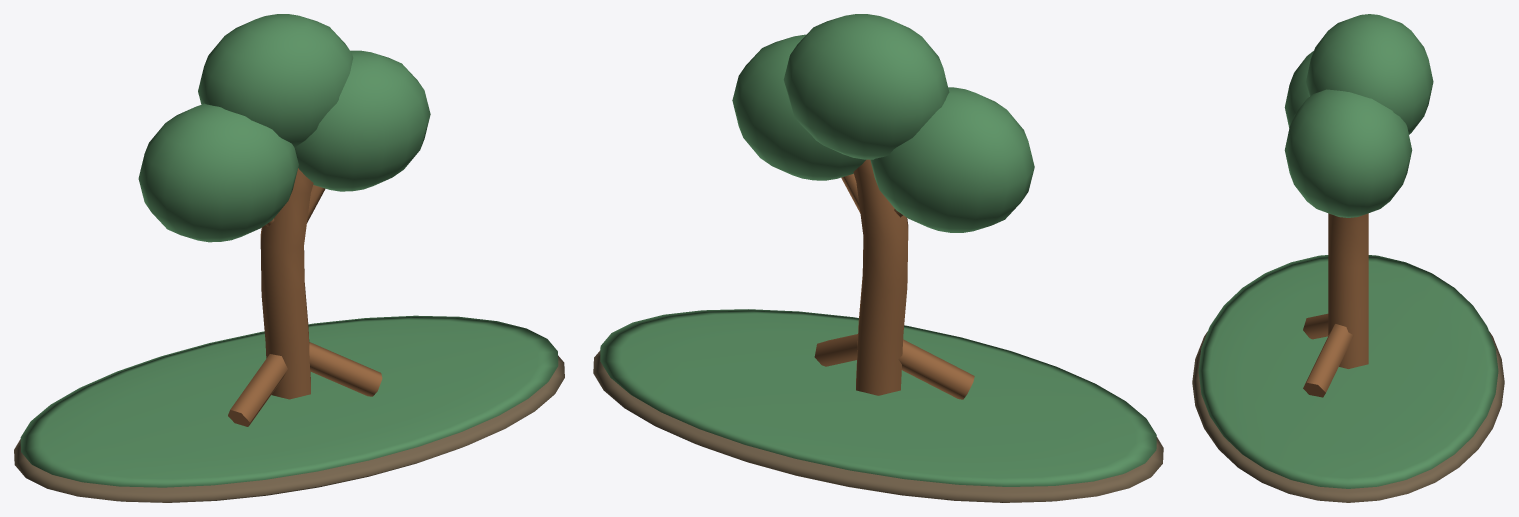
Rendered from complete-third-one-counted-tree.glb.
The picture shows the model from 3 angles, left to right: view 1: azimuth 30°, elevation 25°; view 2: azimuth 150°, elevation 25°; view 3: azimuth 270°, elevation 25°; orthographic projection. The views are drawn at different scales.
Visible parts, largest first — view 1: complete-third-one-counted-tree_surface_01, complete-third-one-counted-tree_surface_02, complete-third-one-counted-tree_surface_00; view 2: complete-third-one-counted-tree_surface_01, complete-third-one-counted-tree_surface_02, complete-third-one-counted-tree_surface_00; view 3: complete-third-one-counted-tree_surface_01, complete-third-one-counted-tree_surface_02, complete-third-one-counted-tree_surface_00.
Boxes of the visible parts, x1,y1,x2,y2 form: complete-third-one-counted-tree_surface_01: (20, 14, 558, 487); complete-third-one-counted-tree_surface_02: (228, 168, 382, 426); complete-third-one-counted-tree_surface_00: (14, 355, 564, 502); complete-third-one-counted-tree_surface_01: (600, 14, 1156, 486); complete-third-one-counted-tree_surface_02: (814, 159, 974, 399); complete-third-one-counted-tree_surface_00: (593, 350, 1163, 502); complete-third-one-counted-tree_surface_01: (1198, 14, 1498, 488); complete-third-one-counted-tree_surface_02: (1303, 213, 1368, 397); complete-third-one-counted-tree_surface_00: (1192, 331, 1504, 502).
Size of the model in its own units: 4.56 by 3.31 by 2.5.
